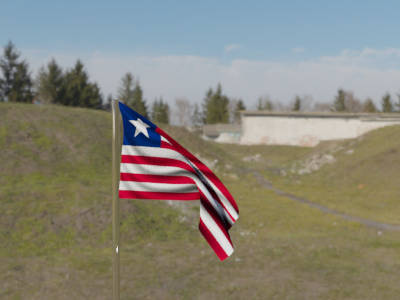Liberia flag: (119, 100, 242, 261)
